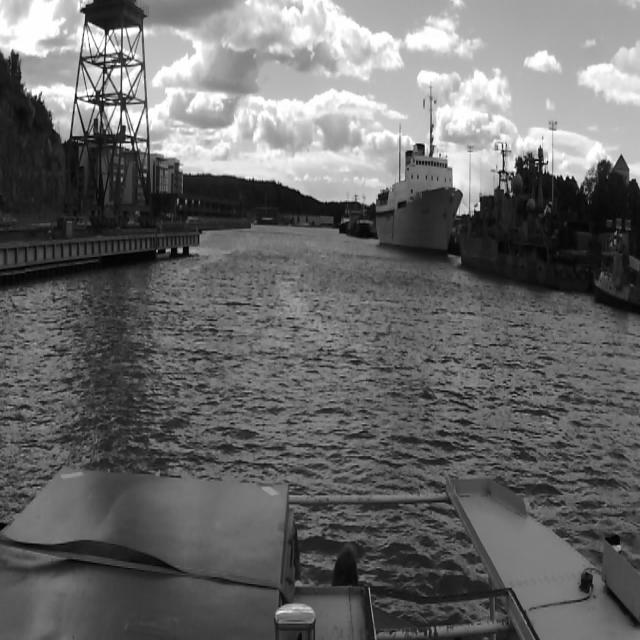ship: (457, 143, 587, 294), (376, 82, 458, 258), (594, 250, 632, 311), (345, 206, 377, 240)
